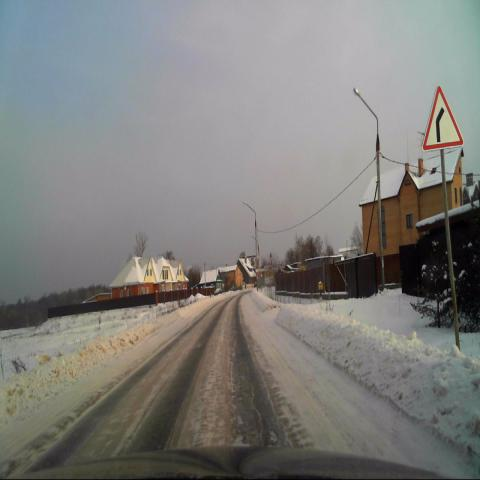1_11: (422, 82, 464, 150)
